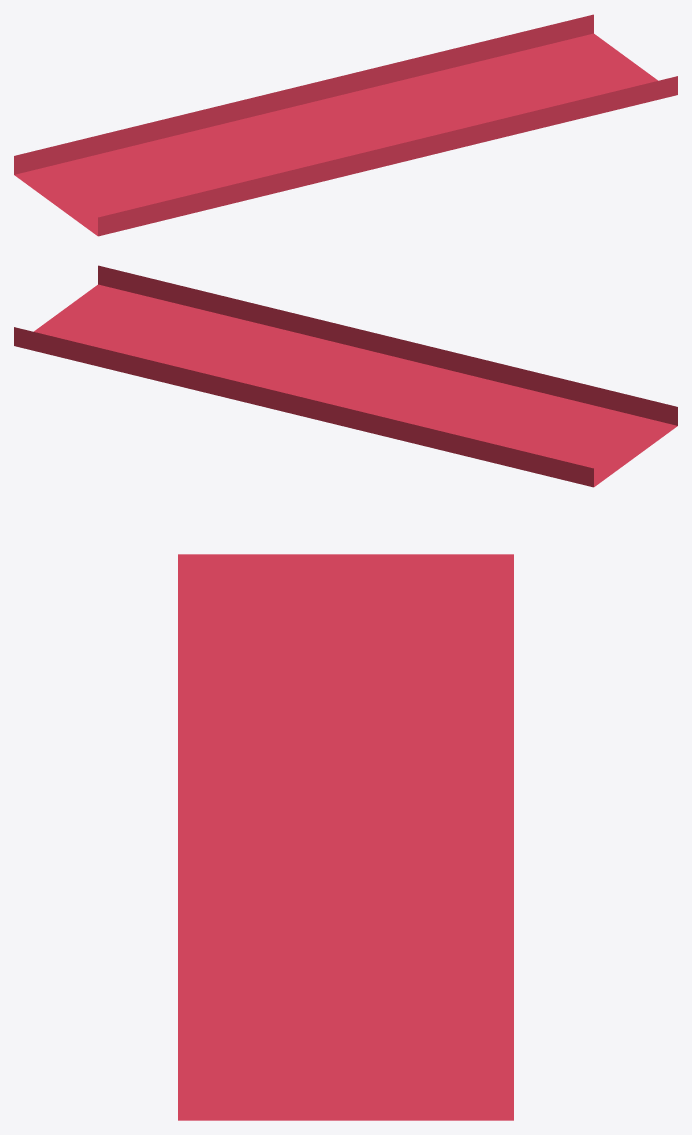
The model's file is Itr_Couch_Outside_Bottom_01.FBX.
3 renders of one model, top to bottom at view 1: azimuth 30°, elevation 25°; view 2: azimuth 150°, elevation 25°; view 3: azimuth 270°, elevation 25°, orthographic. The views are drawn at different scales.
Parts seen in each view (by area): view 1: Itr_Couch_Outside_Bottom_01; view 2: Itr_Couch_Outside_Bottom_01; view 3: Itr_Couch_Outside_Bottom_01.
Boxes of the visible parts, x1,y1,x2,y2 form: Itr_Couch_Outside_Bottom_01: [14, 14, 677, 236]; Itr_Couch_Outside_Bottom_01: [14, 265, 677, 487]; Itr_Couch_Outside_Bottom_01: [178, 554, 513, 1120].
Size of the model in its own units: 57.26 by 1.79 by 14.38.
